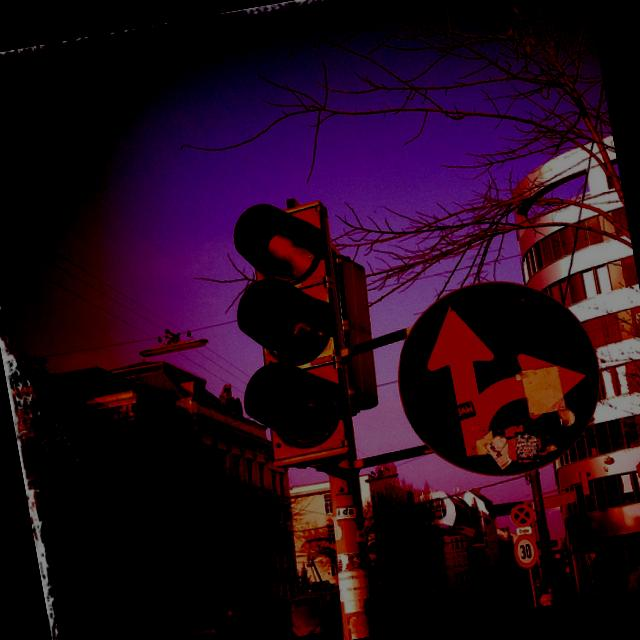Vehicle: (225, 628, 343, 640), (181, 622, 248, 640)
